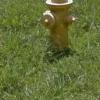Hydrant: (34, 2, 84, 57)
